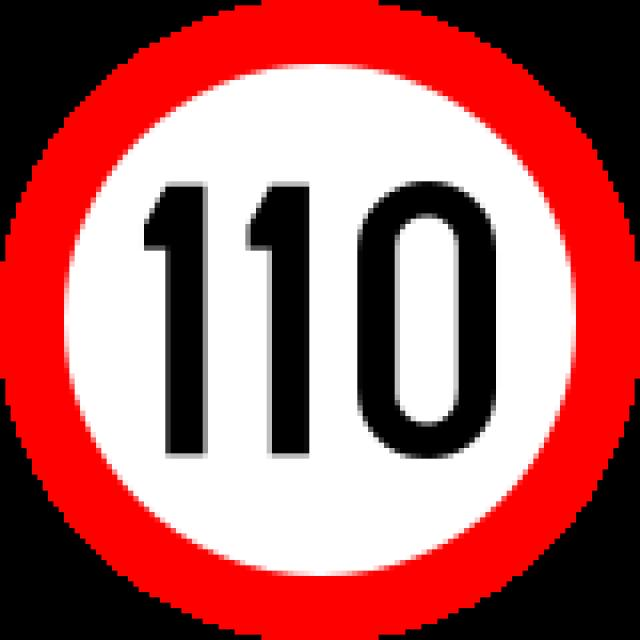Speed Limit -110-: (128, 177, 516, 468)
